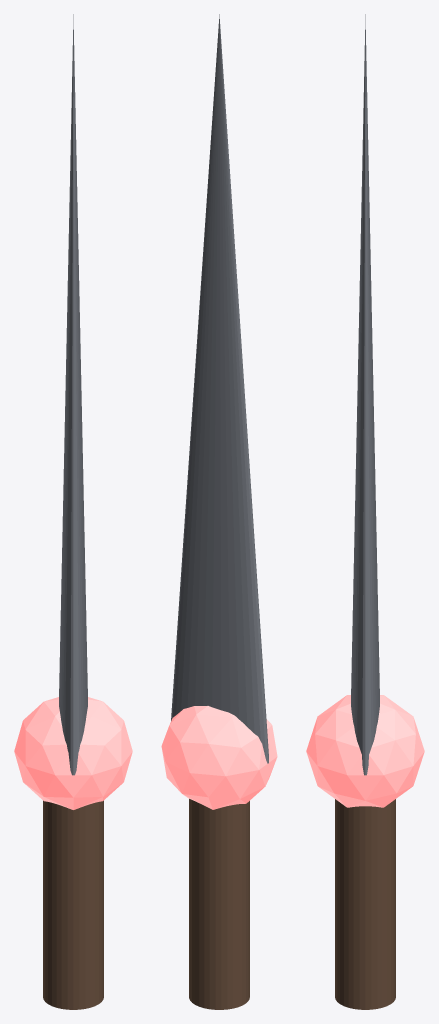
Rendered from weapon_shadow_daggers.glb.
3 views of the same model, side by side, from view 1: azimuth 90°, elevation 25°; view 2: azimuth 150°, elevation 25°; view 3: azimuth 270°, elevation 25° (orthographic).
Visible parts, largest first — view 1: Cylinder, Cone, Icosphere; view 2: Cone, Cylinder, Icosphere; view 3: Cylinder, Cone, Icosphere.
Boxes of the visible parts, x1,y1,x2,y2 form: Cylinder: (43, 800, 103, 1009); Cone: (59, 14, 87, 775); Icosphere: (14, 697, 132, 809); Cone: (171, 14, 268, 763); Cylinder: (189, 799, 249, 1009); Icosphere: (161, 706, 277, 809); Cylinder: (335, 799, 395, 1009); Cone: (351, 14, 379, 775); Icosphere: (306, 695, 424, 807).
Size of the model in its own units: 0.0672 by 0.64 by 0.07.
